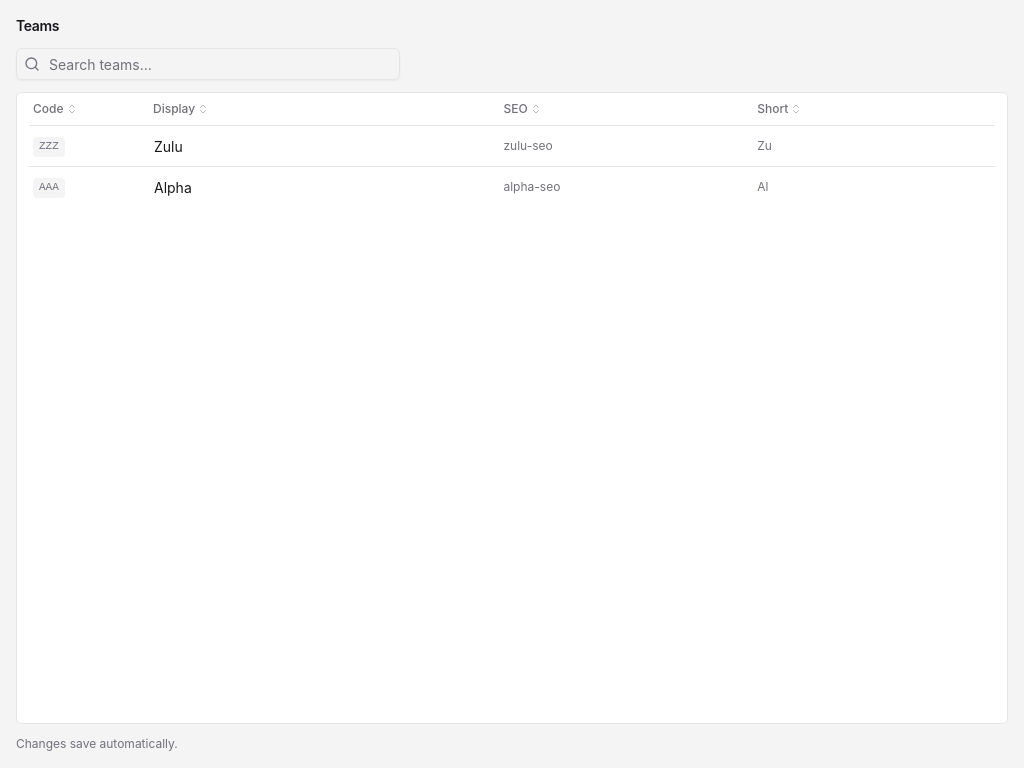
Test: NamesTab › filters teams with search and shows a result count
This screenshot has width=1024, height=768.
Expected: the list named "Teams" is shown, 29,126 -> 995,207
In the field with placeholder "Search teams…": (208, 64) 16,48 -> 400,80, type "Alpha"
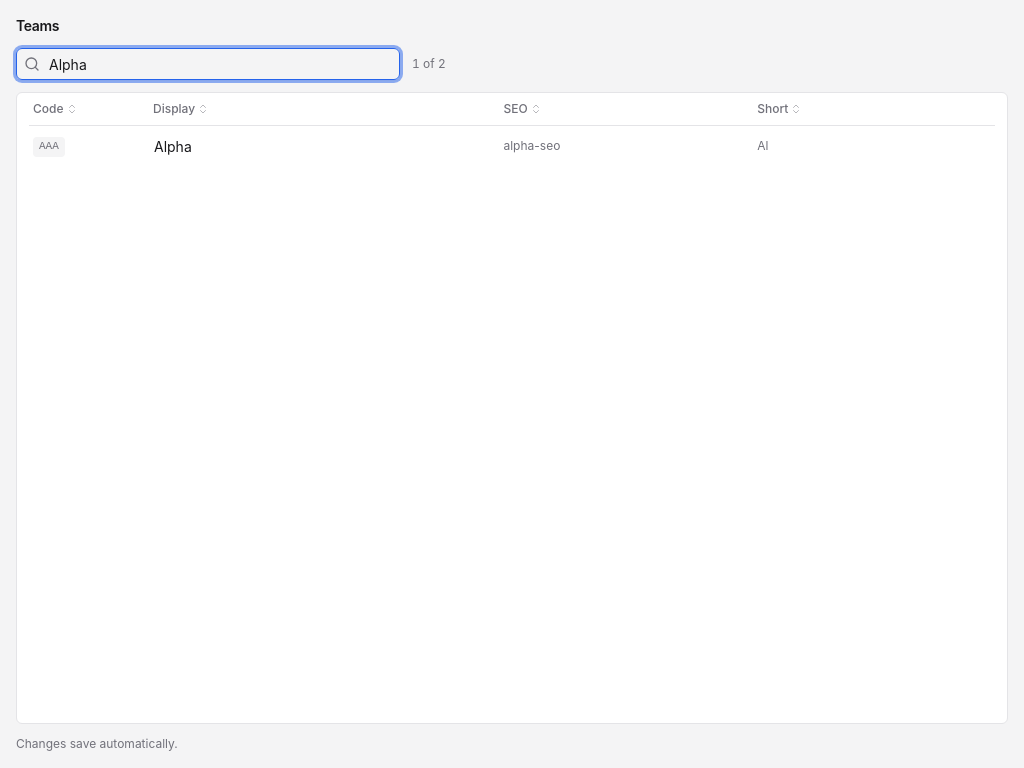
Expected: the number of list items is 1, 33,130 -> 768,162
Expected: the text "ZZZ" is gone
Expected: the text "1 of 2" is shown, 412,56 -> 446,72
